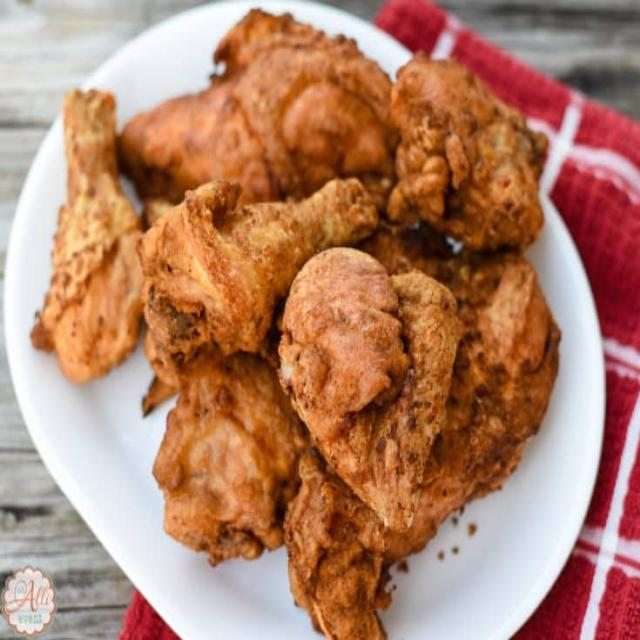Frango: (28, 1, 560, 640)
